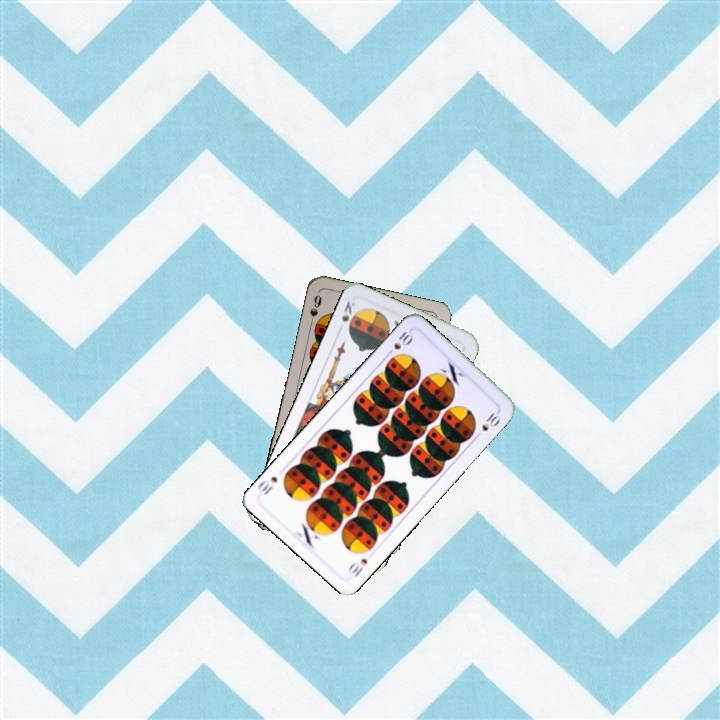S10: (382, 327, 416, 359), (344, 554, 370, 579)
S9: (306, 290, 324, 330)
SK: (337, 297, 359, 333)
